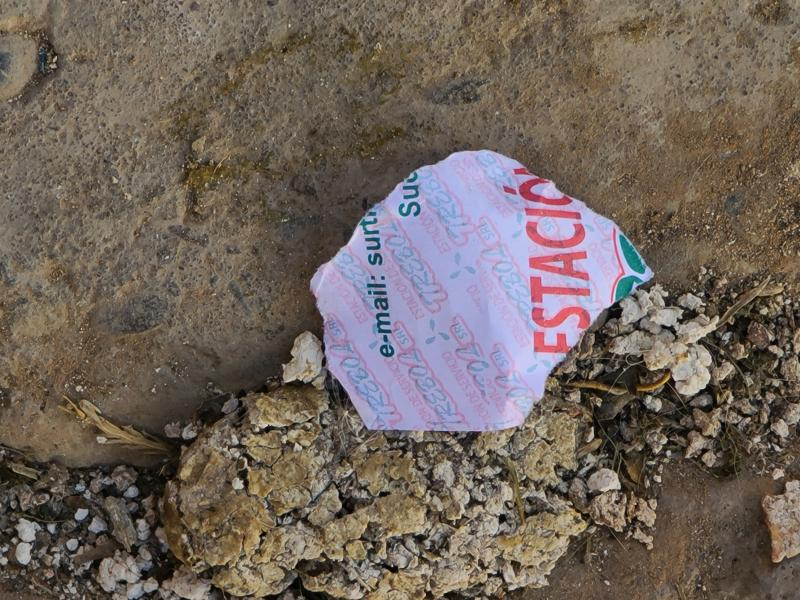papel: (310, 150, 653, 434)
